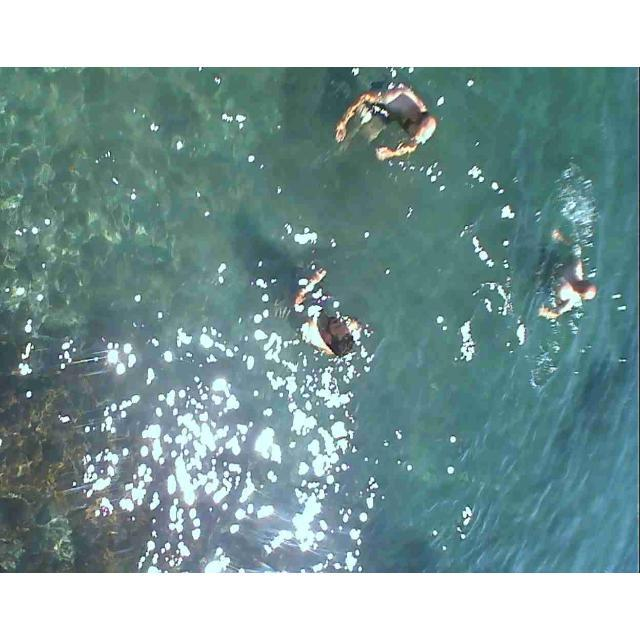human: (335, 69, 435, 173), (289, 252, 366, 368), (540, 226, 595, 336)
